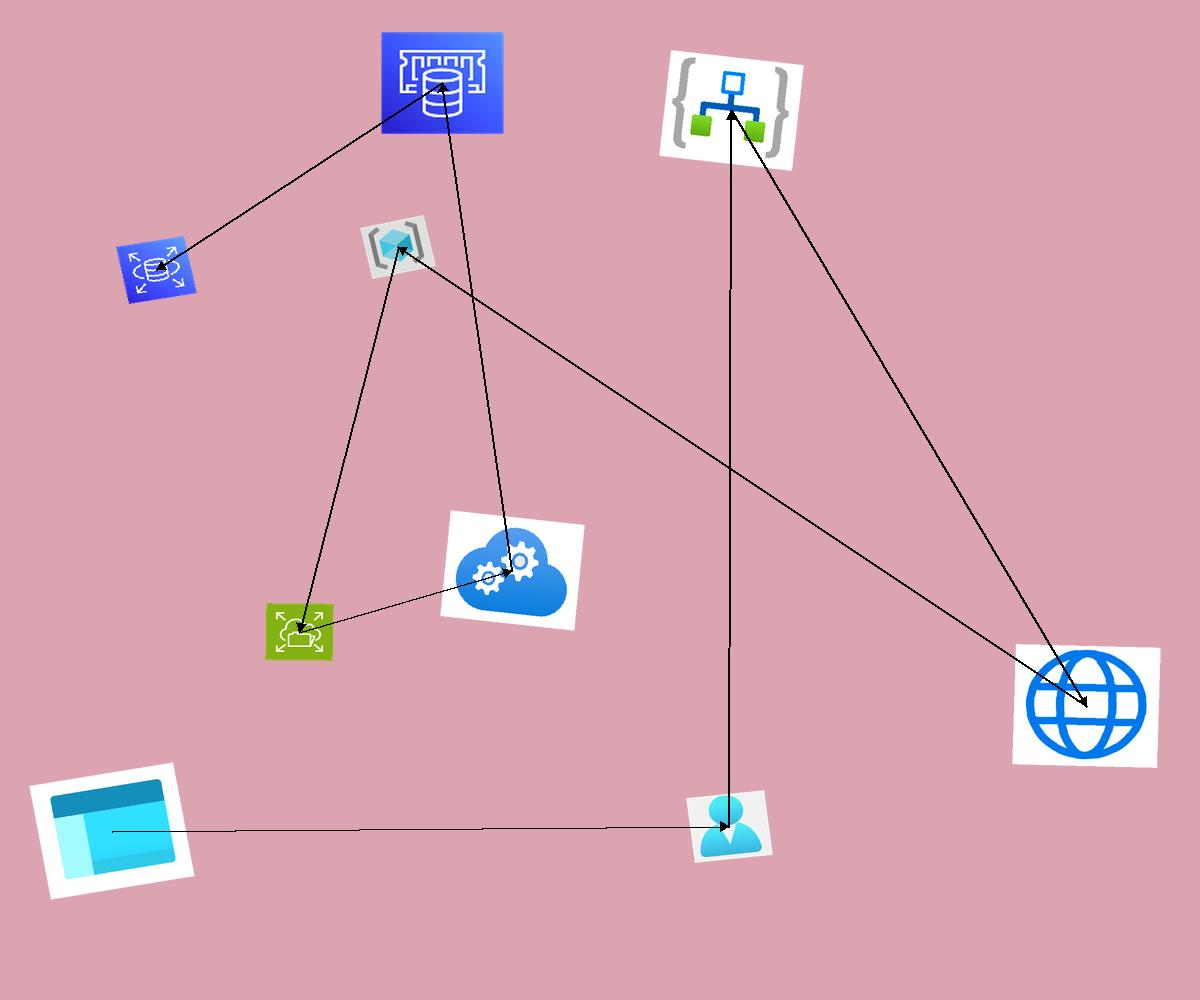AWS-EFS: (265, 603, 334, 661)
AWS-ElastiCache: (380, 31, 505, 135)
AWS-RDS: (116, 236, 197, 304)
Azure_cloud_services: (440, 510, 585, 631)
Azure_http: (1012, 644, 1161, 768)
Azure_integration-204-Logic-Apps: (659, 50, 804, 171)
Azure_management-portal: (29, 762, 195, 900)
Azure_resource_group: (360, 215, 436, 279)
Azure_users: (686, 790, 773, 863)
